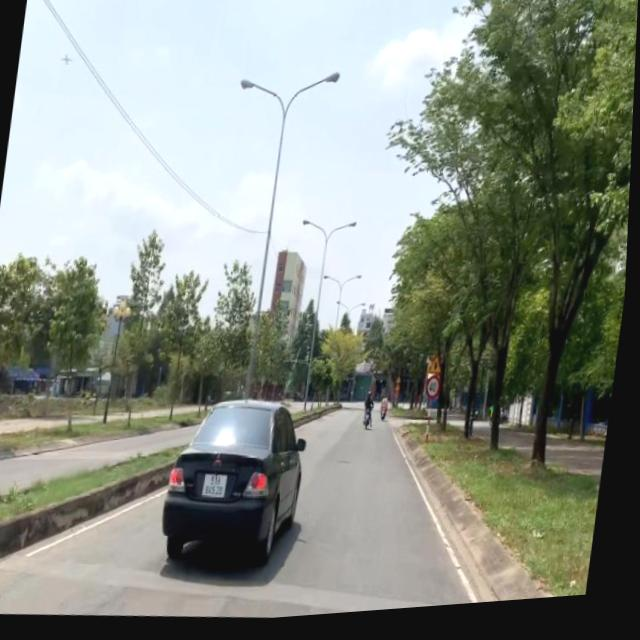Duong giao nhau cung cap: (400, 382, 405, 390)
Giao nhau voi duong khong uu tien ben phai: (430, 361, 447, 383)
Nguoi di bo cat ngang: (398, 390, 405, 397)
Toc do toi da cho phep: (428, 381, 446, 407)
